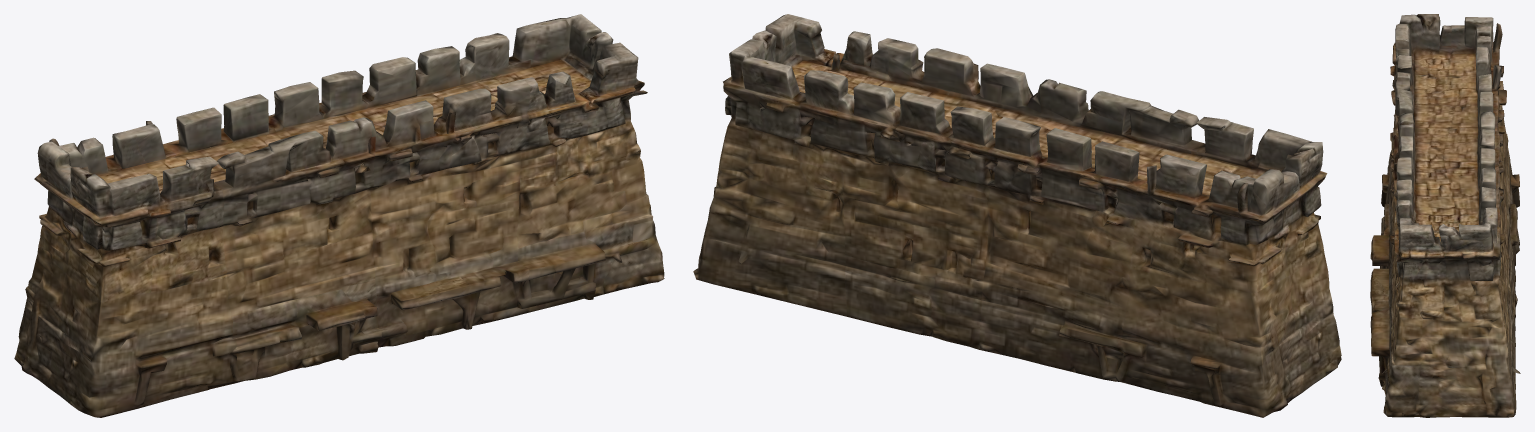
The model's file is wall-low.glb.
3 renders of one model, left to right at view 1: azimuth 30°, elevation 25°; view 2: azimuth 150°, elevation 25°; view 3: azimuth 270°, elevation 25°, orthographic. The views are drawn at different scales.
Size of the model in its own units: 0.9995 by 0.3707 by 0.2768.
Materials: 1 (1 with a texture image).
